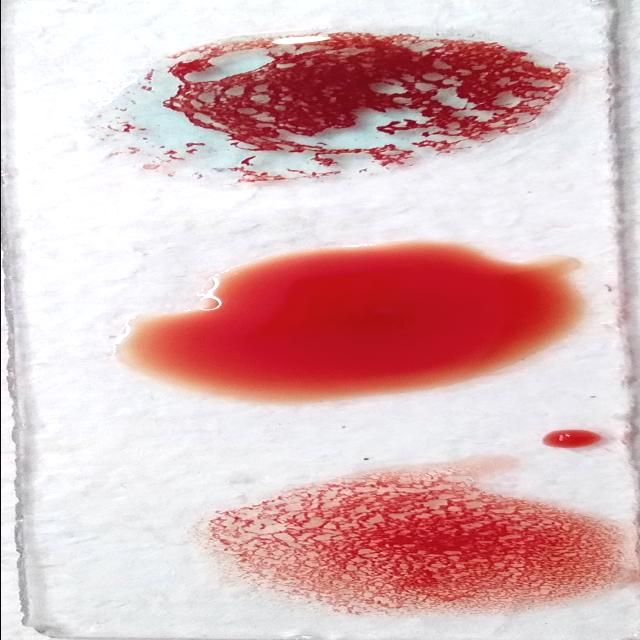A: (79, 28, 569, 194)
D: (196, 480, 632, 622)
